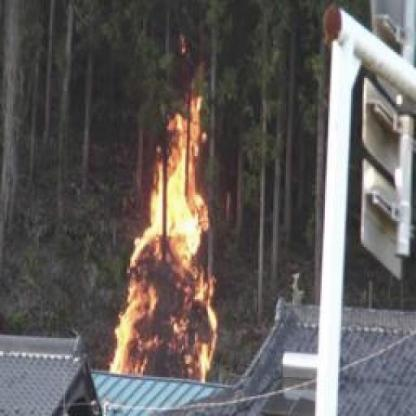fire: (113, 111, 215, 380)
